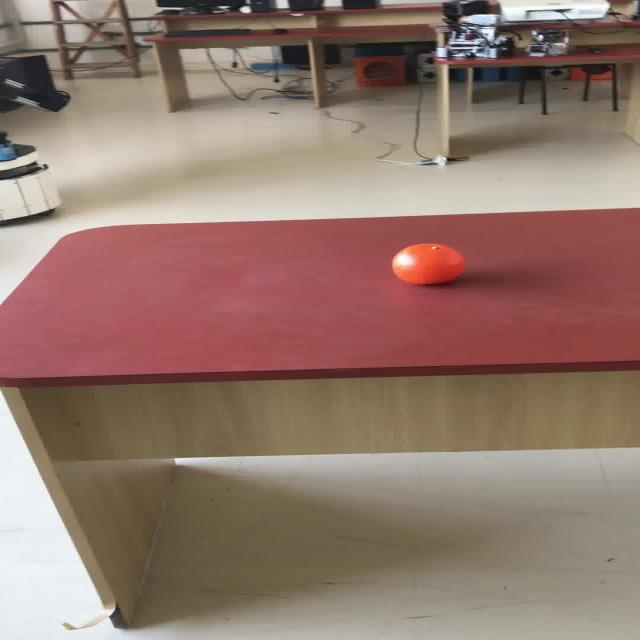orange: (389, 242, 464, 285)
